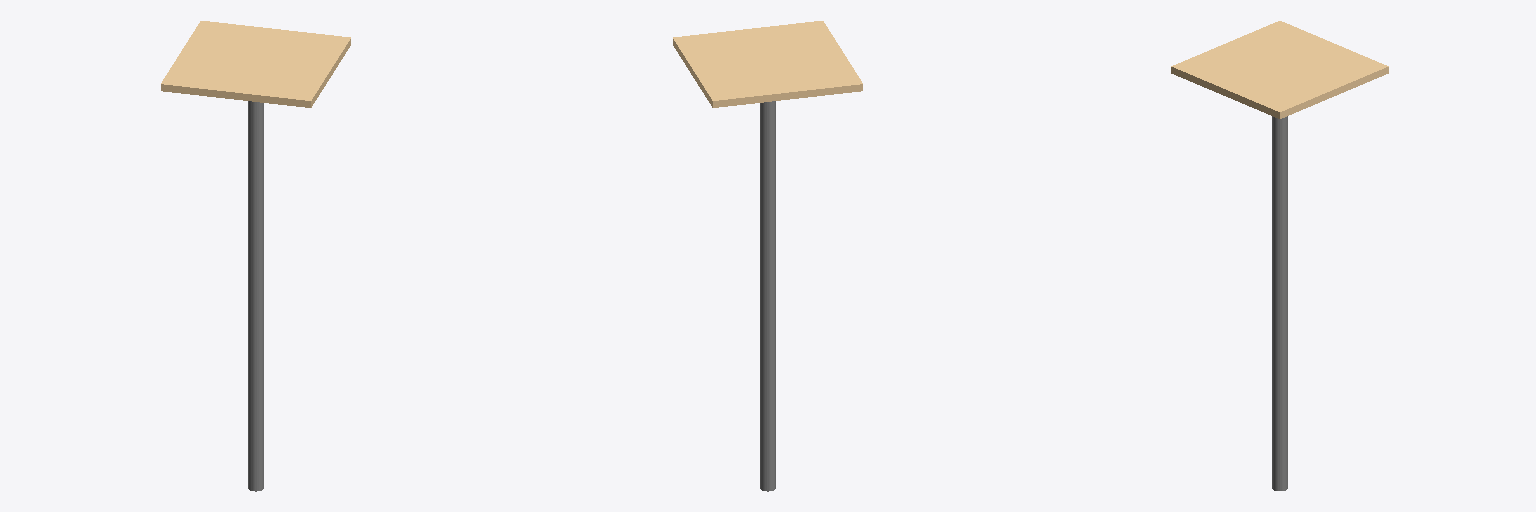
URDF robot description (box):
<?xml version="1.0" ?>
<robot name="box">

  <material name="panda_white">
    <color rgba="1. 0.87 0.68 1."/>
  </material>

  <material name="metal">
    <color rgba="0.6 0.6 0.6 1."/>
  </material>

  <link name="link1">
    <inertial>
      <origin rpy="0 0 0" xyz="0 0 0"/>
       <mass value=".0"/>
       <inertia ixx="0" ixy="0" ixz="0" iyy="0" iyz="0" izz="0"/>
    </inertial>

    <visual>
      <origin rpy="0 0 0.78539816339" xyz="0 0 0.3"/>
      <geometry>
        <box size="0.10 0.10 0.005"/>
      </geometry>
      <material name="panda_white"/>
    </visual>
  </link>

  <link name="link2">
    <inertial>
      <origin rpy="0 0 0" xyz="0 0 0"/>
       <mass value=".0"/>
       <inertia ixx="0" ixy="0" ixz="0" iyy="0" iyz="0" izz="0"/>
    </inertial>

    <visual>
      <origin rpy="0 0 0" xyz="0 0 0.15"/>
      <geometry>
        <cylinder radius="0.005" length="0.3"/>
      </geometry>
      <material name="metal"/>
    </visual>
  </link>

  <joint name="fixed_joint" type="fixed">
    <parent link="link1"/>
    <child link="link2"/>
    <origin xyz="0 0 0" rpy="0 0 0"/>
  </joint>

</robot>

--- What the picture shows (computed from the rendered views, not written in the file) ---
The picture shows the robot from 3 angles, left to right: view 1: azimuth 30°, elevation 25°; view 2: azimuth 150°, elevation 25°; view 3: azimuth 270°, elevation 25°; orthographic projection.
Model box with 2 links and 1 joints (1 fixed), rooted at link1, posed all joints at 0.
Visible links, largest first — view 1: link1, link2; view 2: link1, link2; view 3: link1, link2.
Boxes of the visible links, left/top/right/bottom form: link1: left=161, top=21, right=350, bottom=107; link2: left=248, top=101, right=263, bottom=491; link1: left=673, top=21, right=862, bottom=107; link2: left=760, top=101, right=775, bottom=491; link1: left=1171, top=21, right=1388, bottom=118; link2: left=1272, top=116, right=1287, bottom=490.
Bounding box of the posed robot: 0.1414 × 0.1414 × 0.3025 m (x, y, z).
Geometry: primitives only (box / cylinder / sphere), no mesh files.